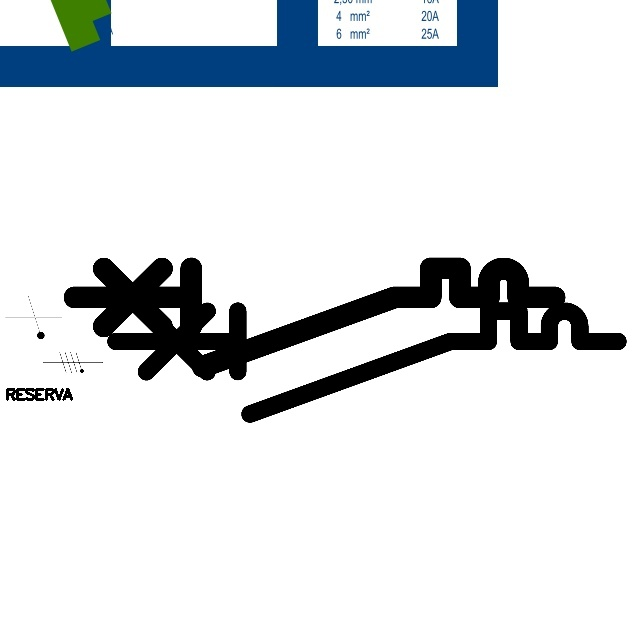interruptor_termomagnetico: (102, 298, 630, 427), (62, 256, 567, 379)
